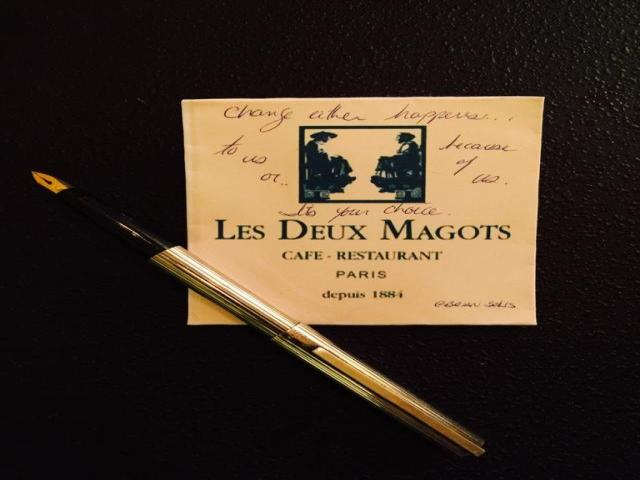PEN: (6, 154, 558, 480)
